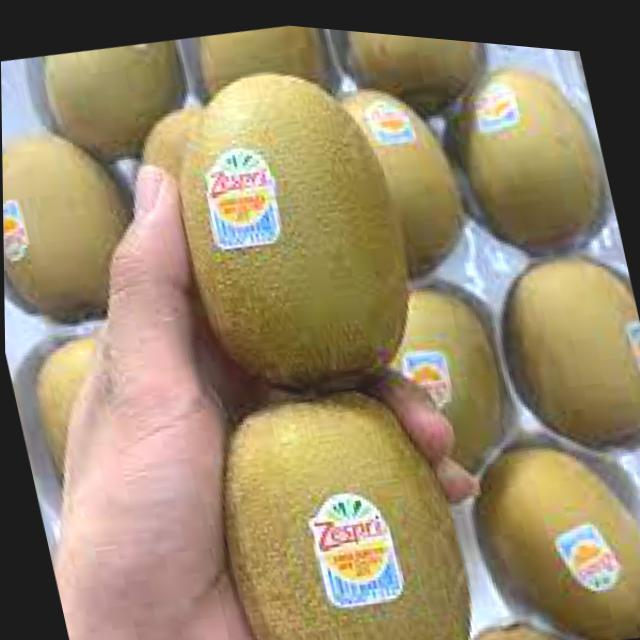kiwi: (146, 37, 446, 426), (182, 331, 492, 640), (428, 33, 622, 270), (456, 405, 640, 640), (352, 252, 529, 495), (316, 51, 488, 282), (480, 222, 640, 465), (2, 110, 164, 350), (20, 316, 186, 537), (34, 28, 213, 184), (184, 14, 363, 138), (334, 24, 504, 141)
